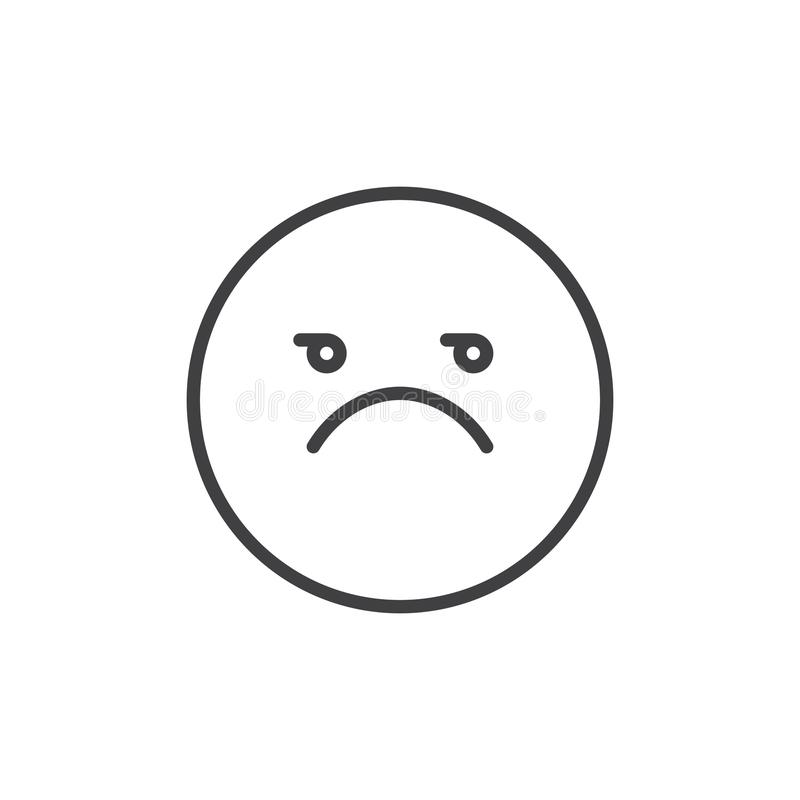triste: (268, 309, 528, 475)
